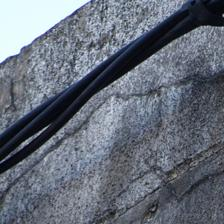Crack: (55, 60, 166, 160), (69, 149, 141, 224)
